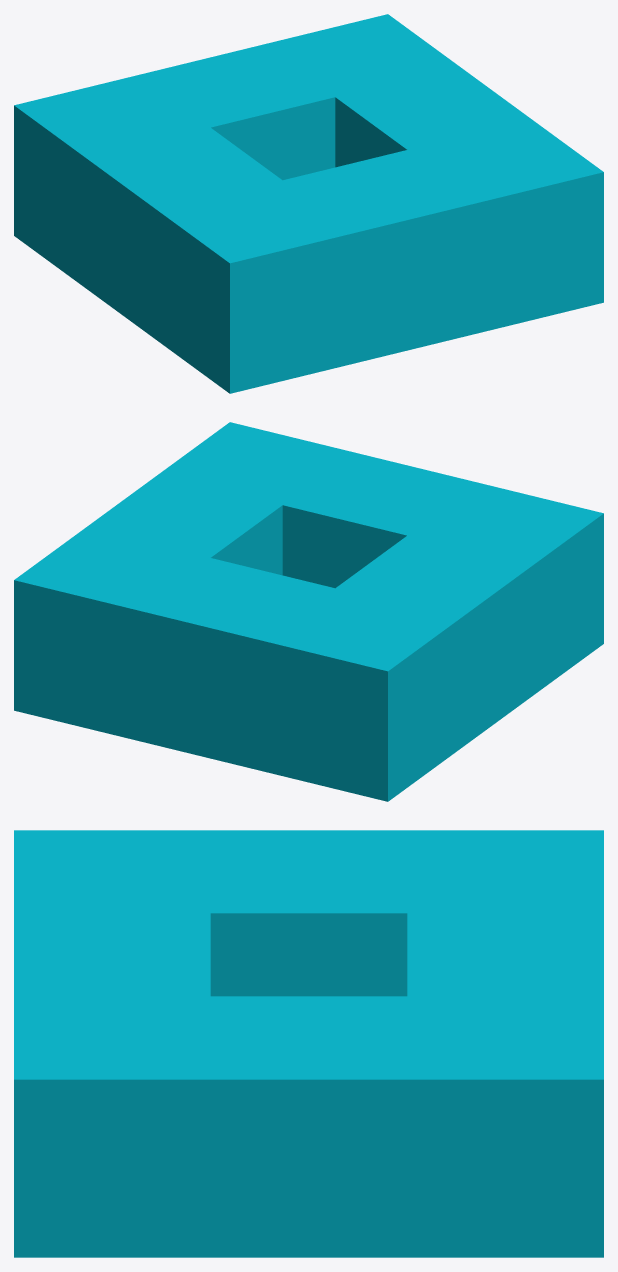
Rendered from bullet_blaster.gltf.
The picture shows the model from 3 angles, top to bottom: view 1: azimuth 30°, elevation 25°; view 2: azimuth 150°, elevation 25°; view 3: azimuth 270°, elevation 25°; orthographic projection. The views are drawn at different scales.
Bounding box in the file's own units: 3 × 1 × 3.
Materials: 1 (1 with a texture image).
